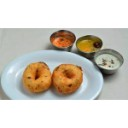vada: (54, 62, 81, 93), (24, 62, 52, 89)
